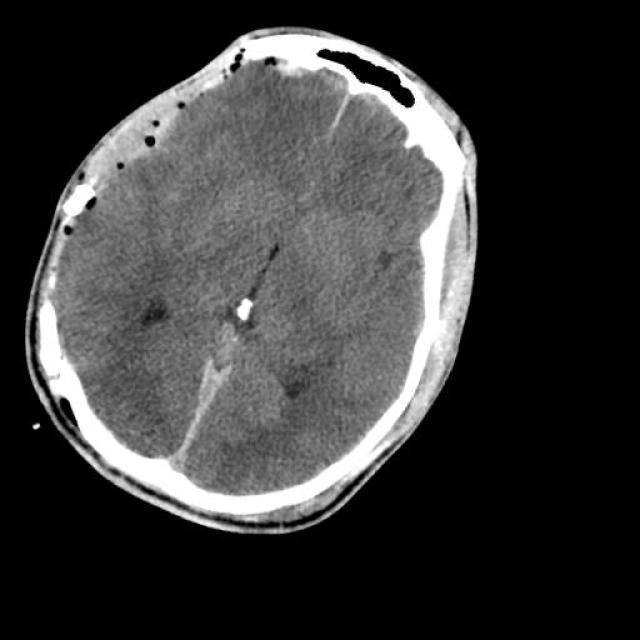Subdural: (130, 339, 270, 502)
